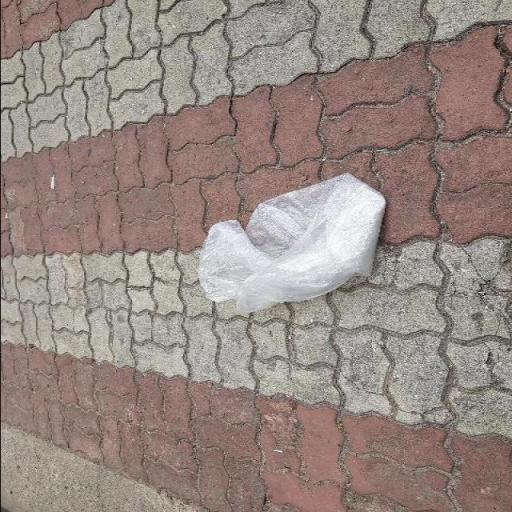plastic-bag: (200, 168, 395, 310)
